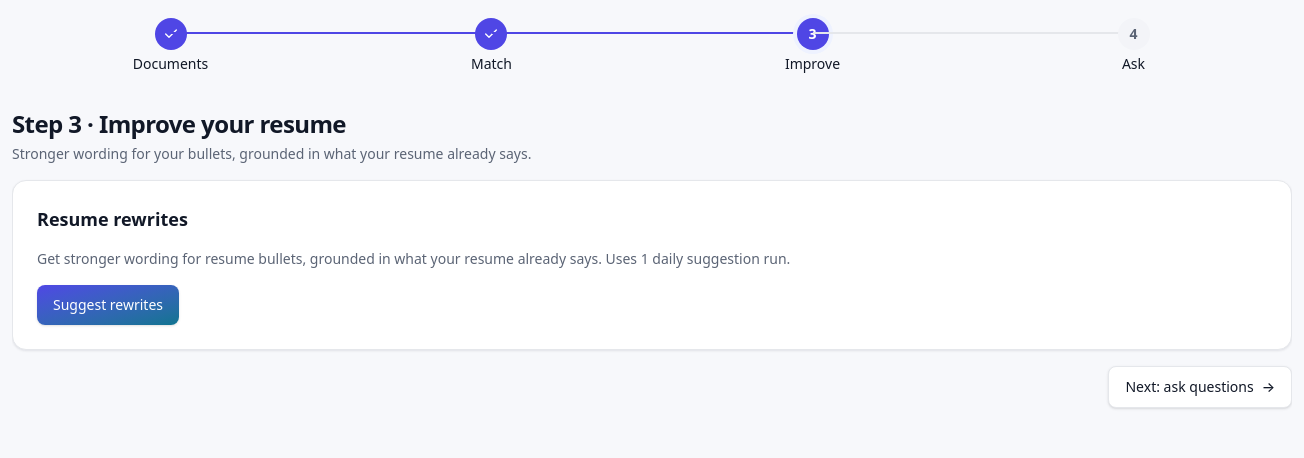
Scenario: Workspace › opens Ask once an analysis exists without visiting Improve, keeping chat state across steps
Later steps or results of the test are not shown.
Click the button "4 Ask": click(1134, 46) [1114,16,1154,76]
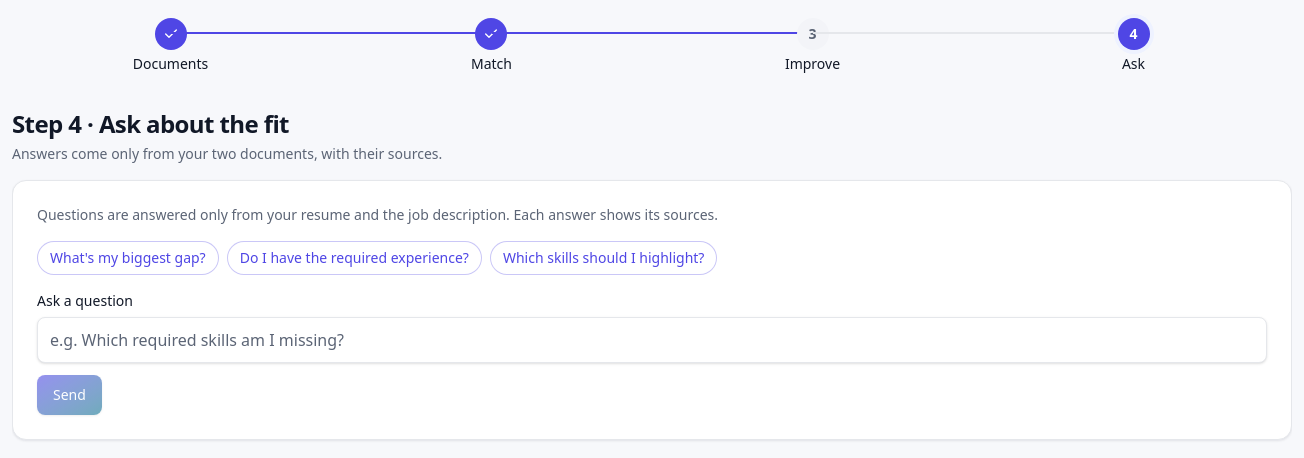
expect the heading "Step 4 · Ask about the fit" is shown: met, box [12,107,289,140]
